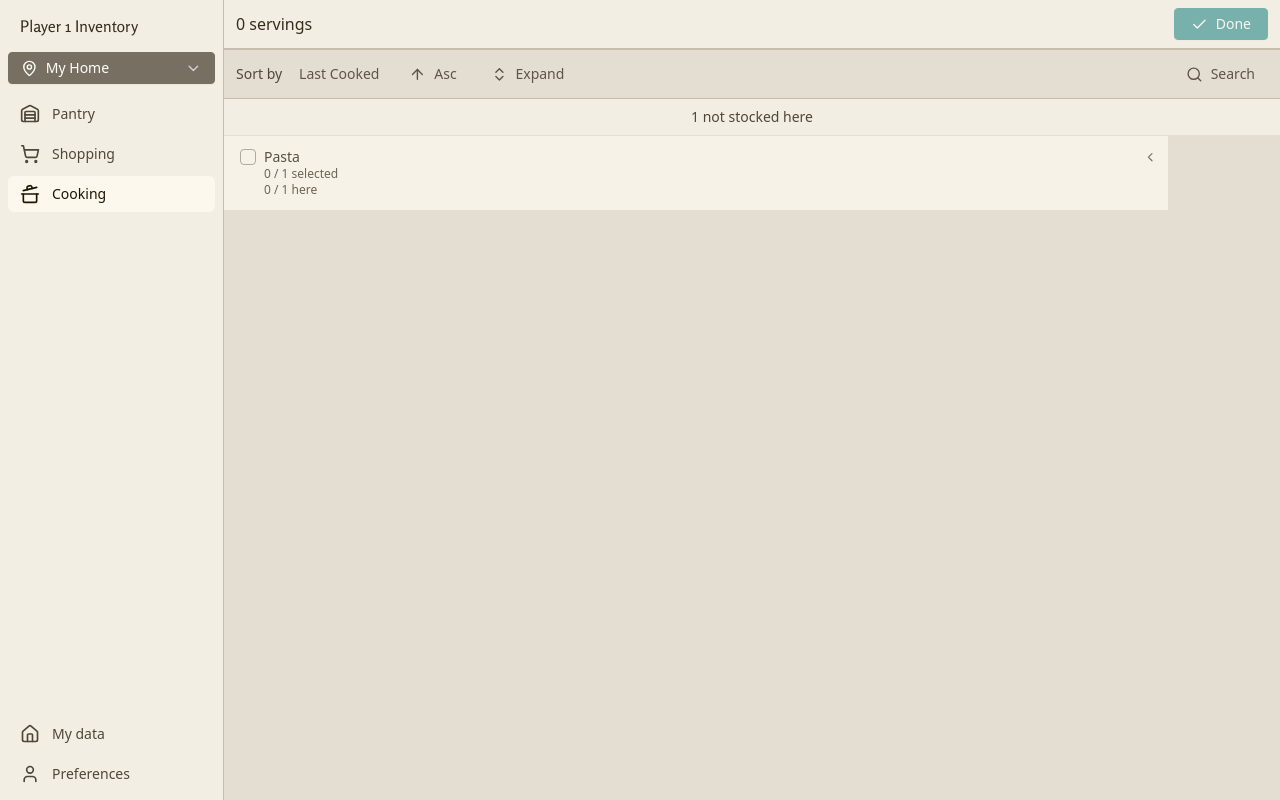
Test: Use (Cooking) Page › user can confirm consumption and inventory is reduced
The width and height of the screenshot is (1280, 800).
Click the button named "Expand Pasta": (1150, 157) top-left (1136, 143), bottom-right (1164, 171)
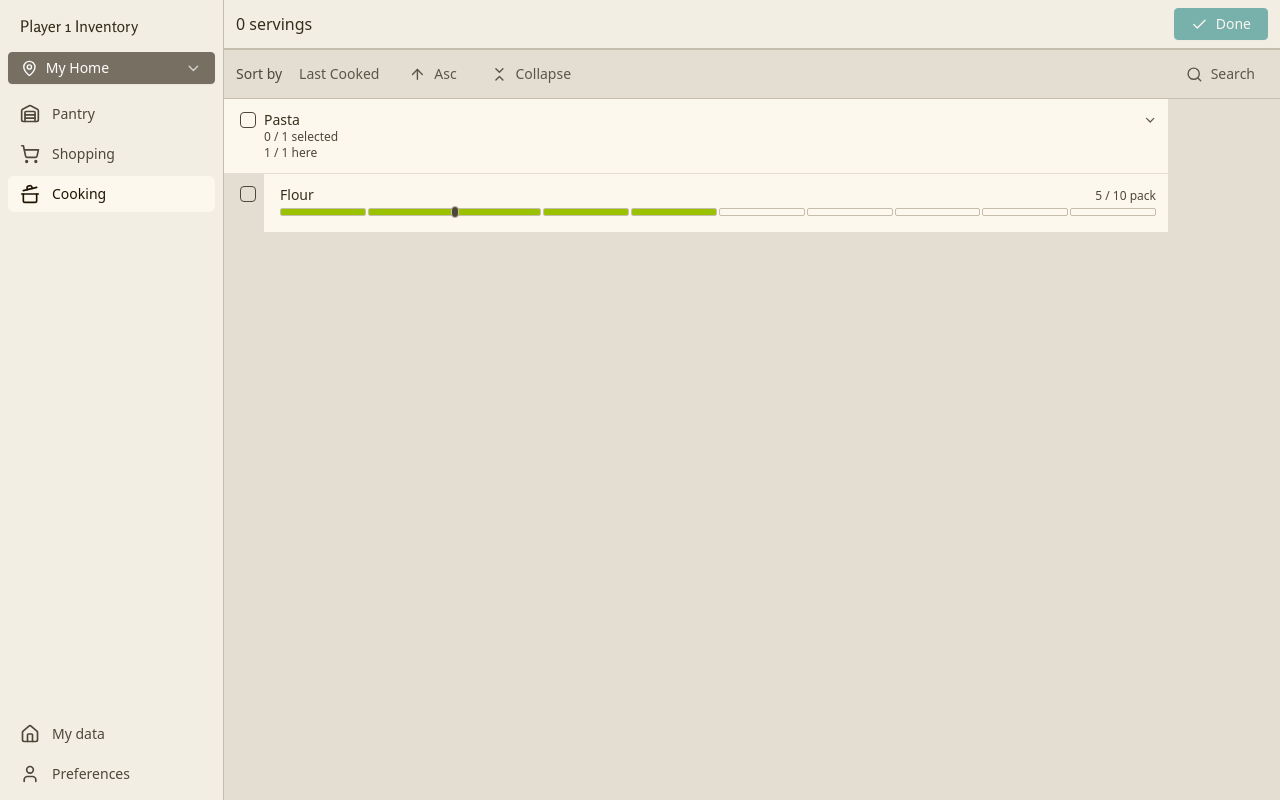
Click the checkbox named "Pasta": (248, 120) top-left (240, 112), bottom-right (256, 128)
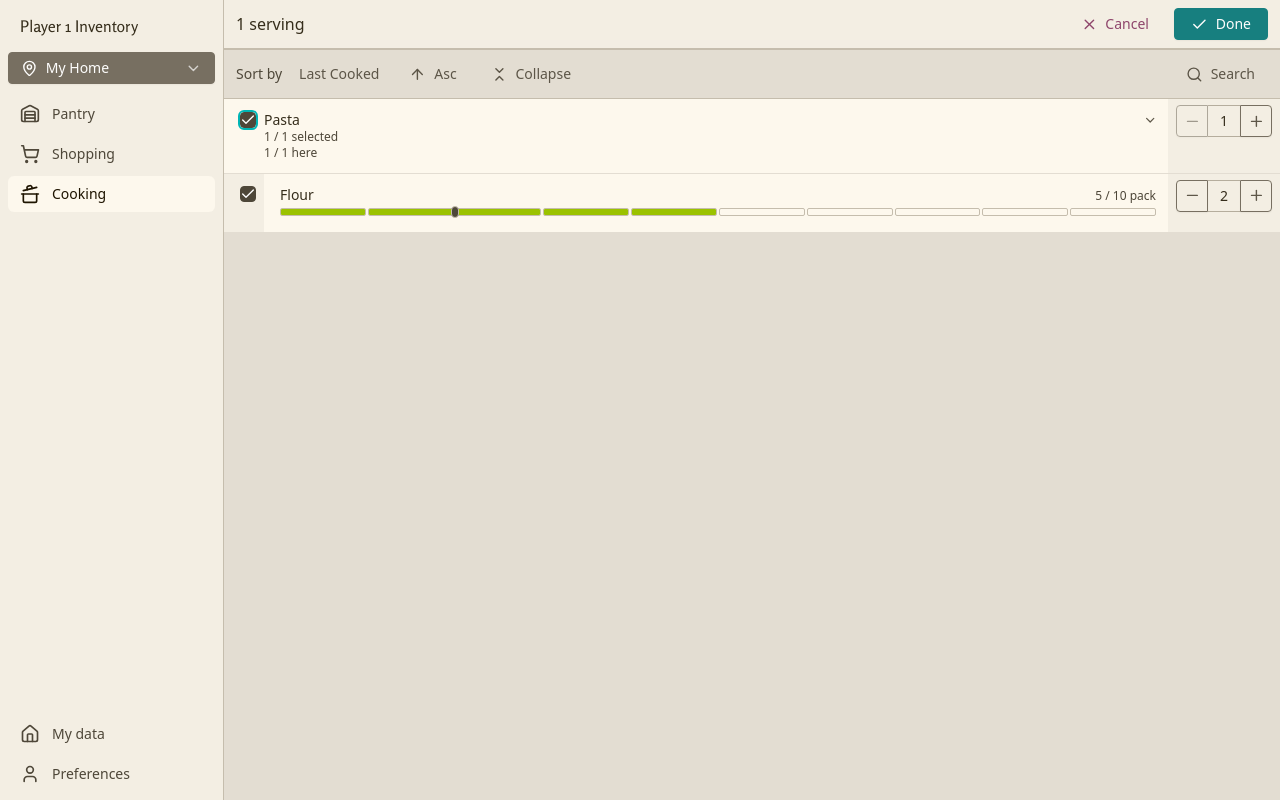
Check: the button "Done" is enabled
Click the button "Done": (1221, 24) top-left (1174, 8), bottom-right (1268, 40)
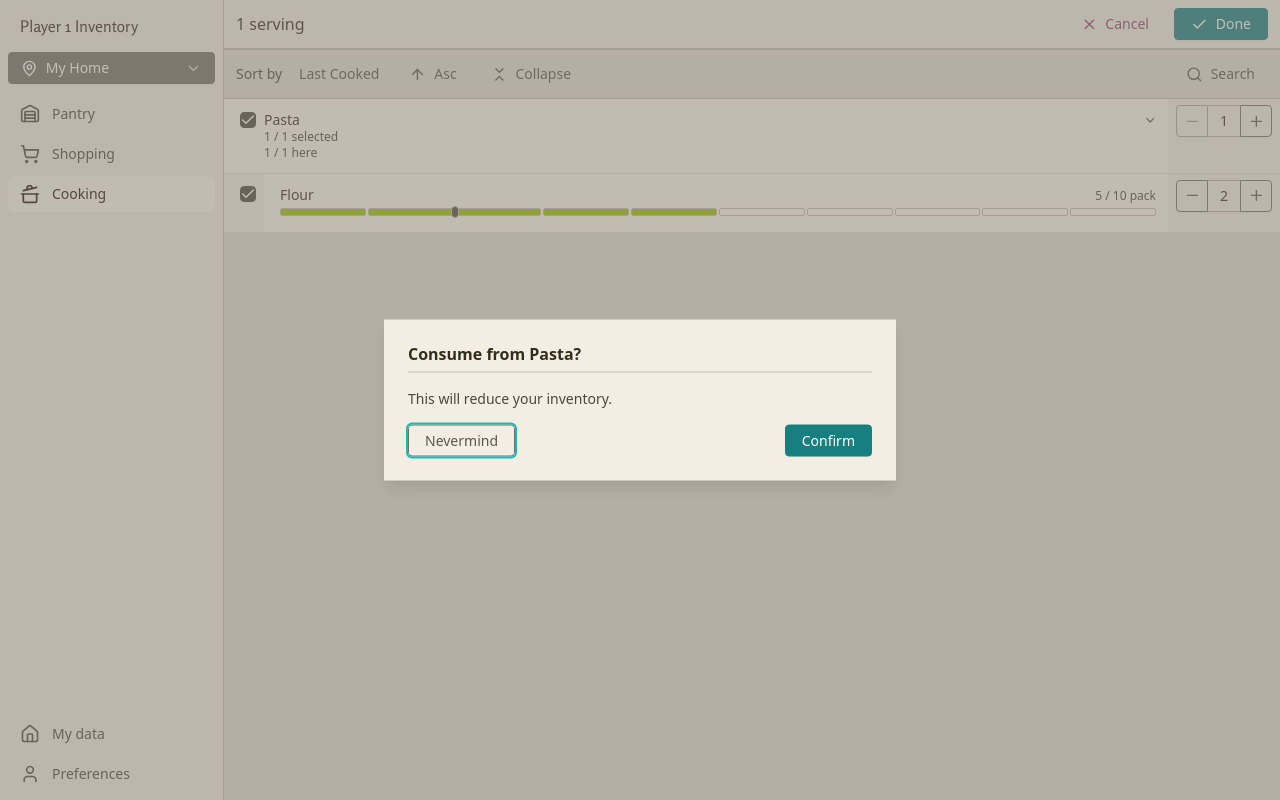
Check: the heading "Consume from Pasta?" is shown, box top-left (408, 342), bottom-right (581, 364)
When user confirms
Click the button "Confirm": (828, 440) top-left (785, 424), bottom-right (872, 456)
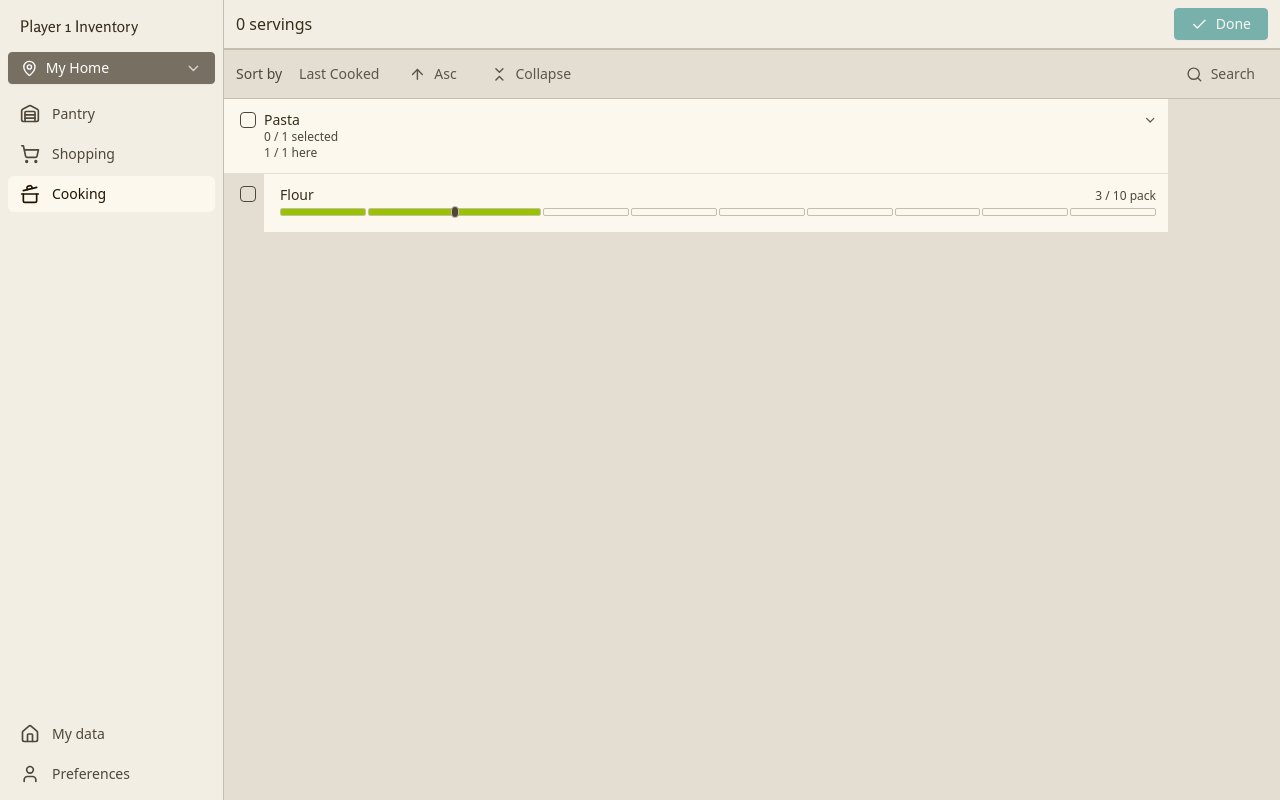
Check: the button named "Collapse Pasta" is shown, box top-left (1136, 106), bottom-right (1164, 134)
Check: the button "Done" is disabled, box top-left (1174, 8), bottom-right (1268, 40)
